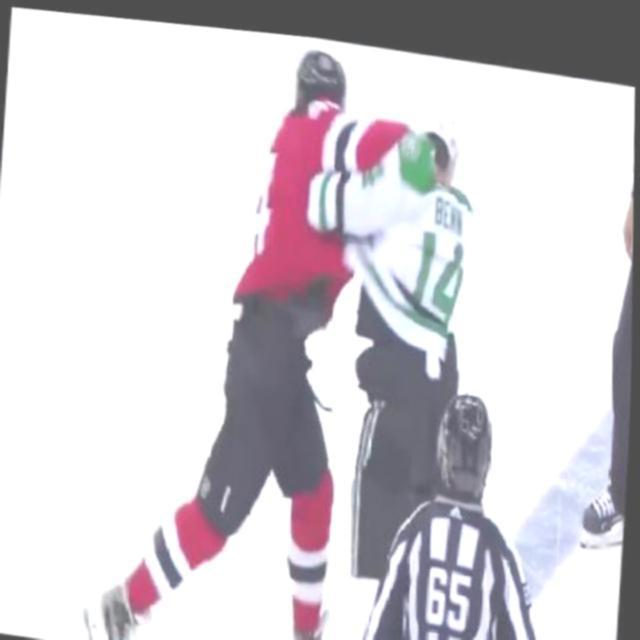fight: (203, 24, 485, 588)
